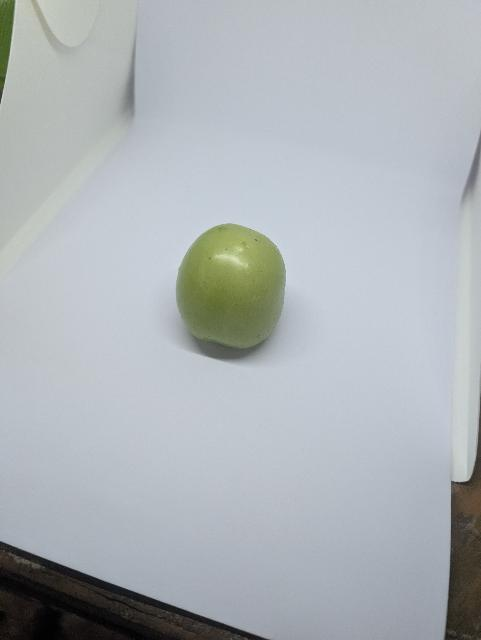green: (163, 209, 308, 351)
